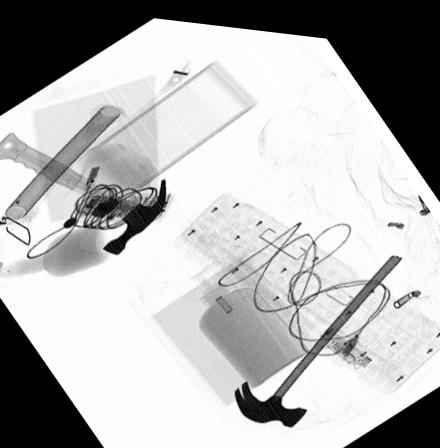Hammer: (232, 243, 403, 419), (0, 131, 166, 252)
